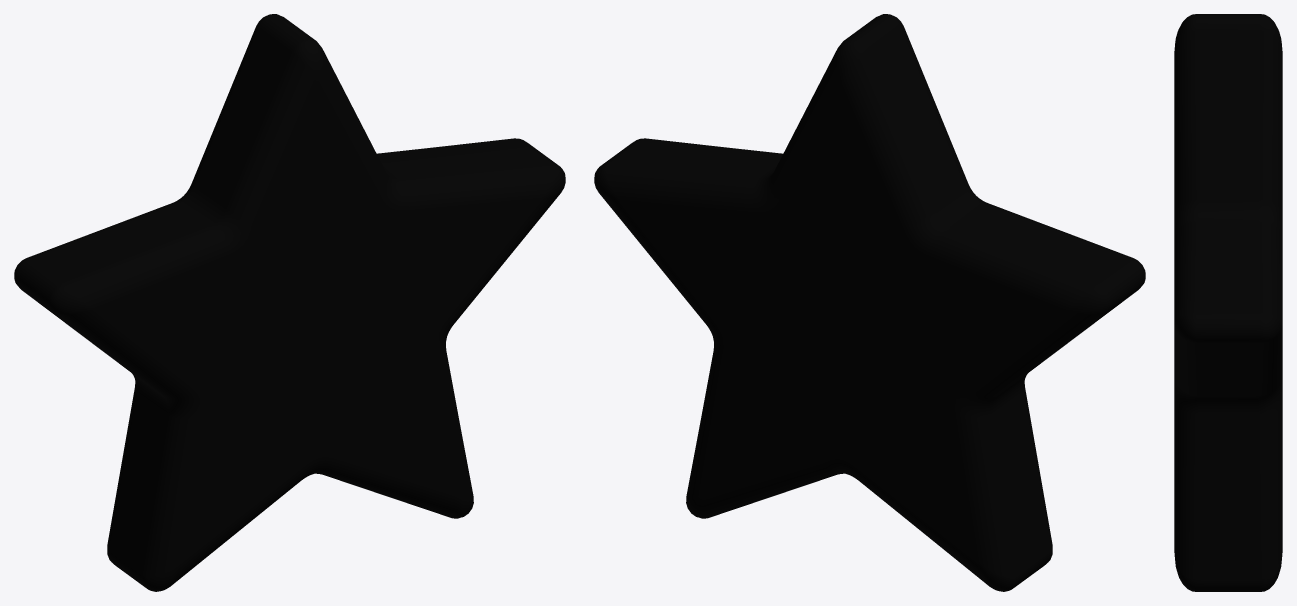
Rendered from blackstar.fbx.
3 renders of one model, left to right at view 1: azimuth 30°, elevation 25°; view 2: azimuth 150°, elevation 25°; view 3: azimuth 270°, elevation 25°, orthographic. The views are drawn at different scales.
Parts seen in each view (by area): view 1: node_id30; view 2: node_id30; view 3: node_id30.
Boxes of the visible parts, x1,y1,x2,y2 form: node_id30: [14, 14, 565, 591]; node_id30: [594, 14, 1145, 591]; node_id30: [1174, 14, 1282, 591].
Bounding box in the file's own units: 0.284 × 0.2711 × 0.0528.
1 material, 1 textured.
